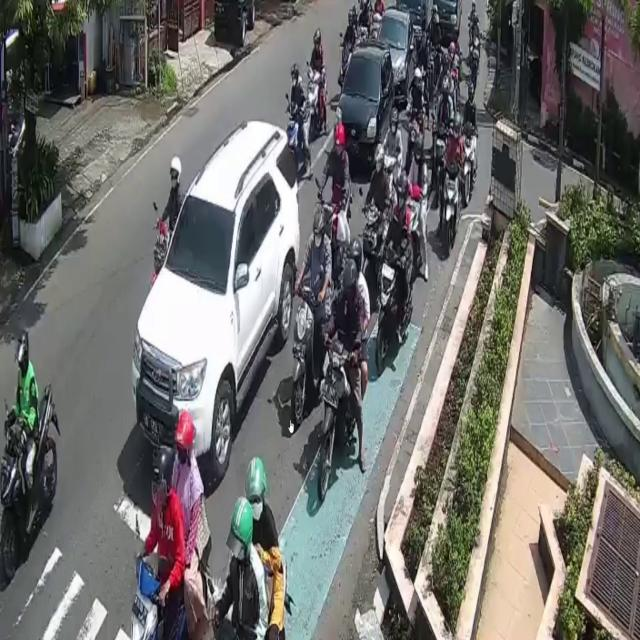car: (132, 120, 301, 479), (335, 39, 394, 170), (378, 8, 416, 106)
motorbike: (1, 381, 57, 583), (318, 336, 352, 514), (291, 282, 318, 438), (377, 242, 399, 373), (440, 156, 460, 257), (463, 118, 477, 206)
